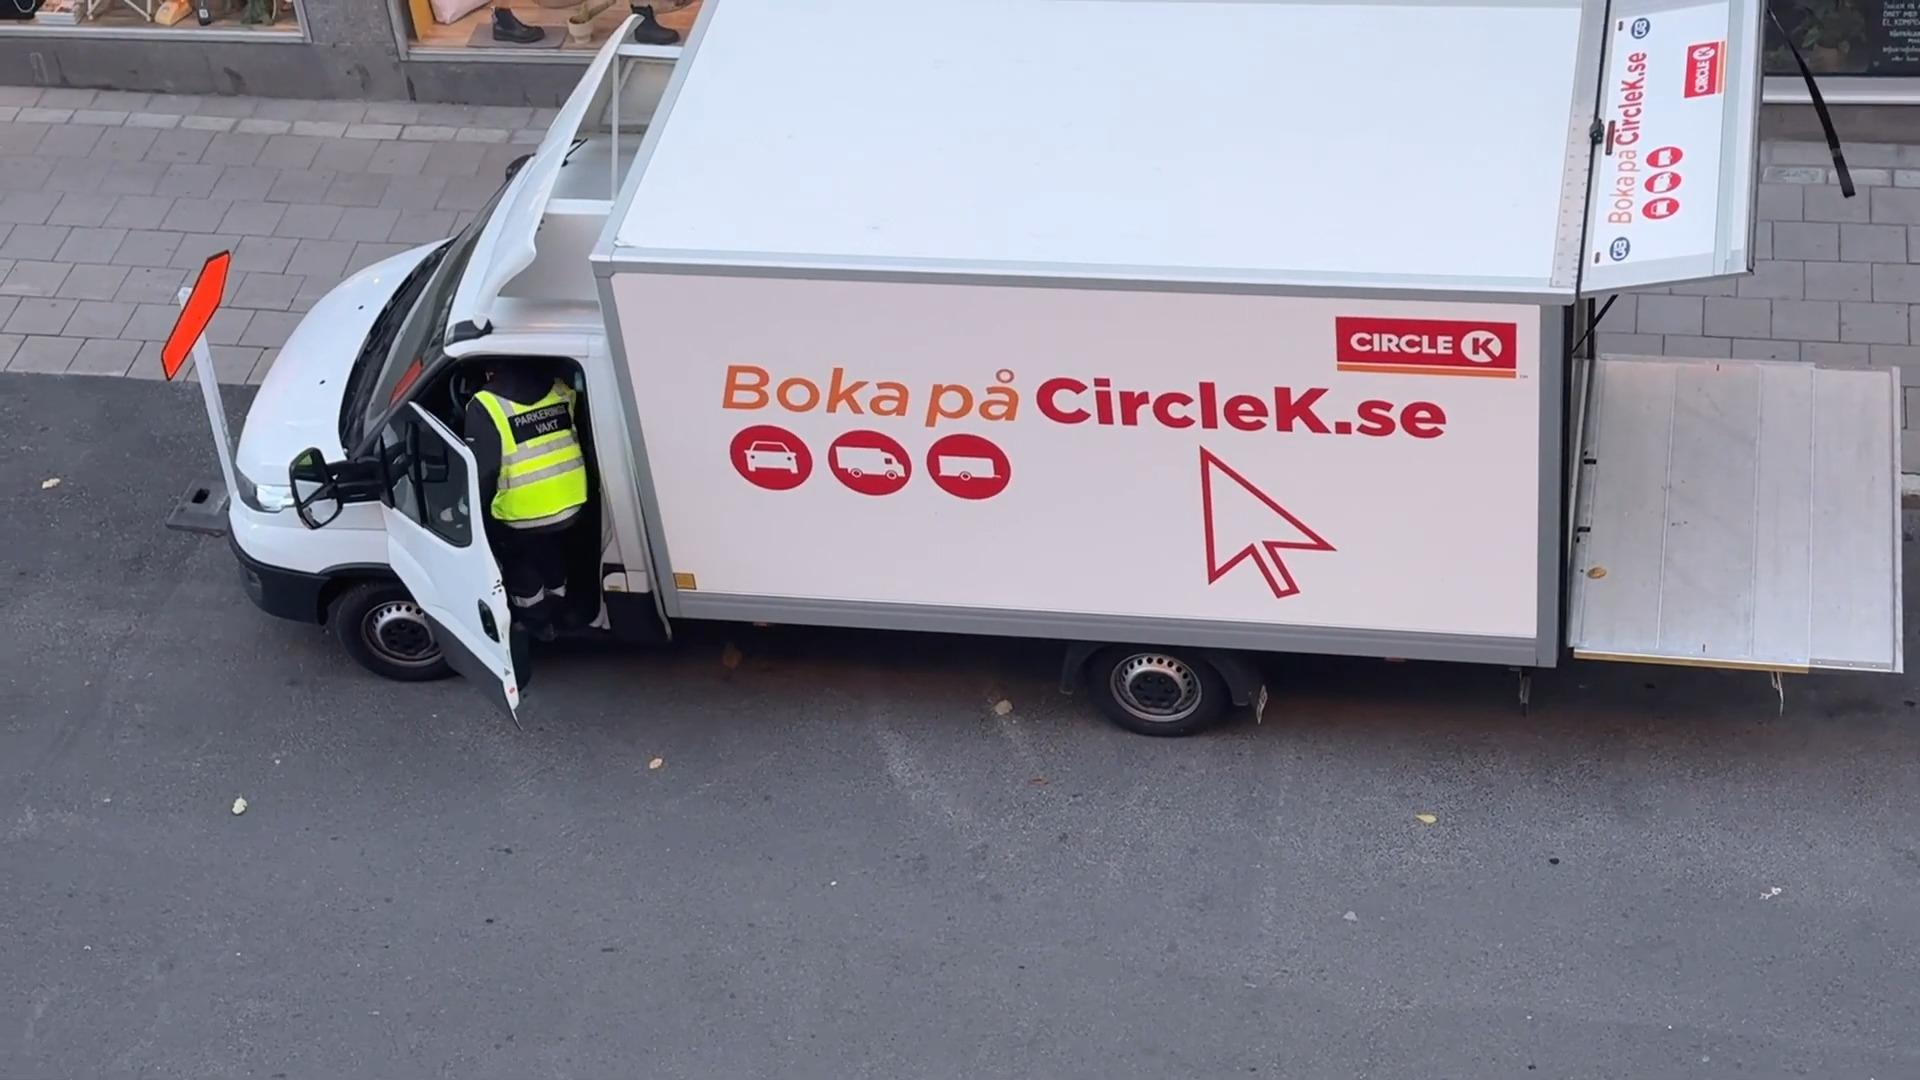parking-attendant: (464, 359, 587, 640)
